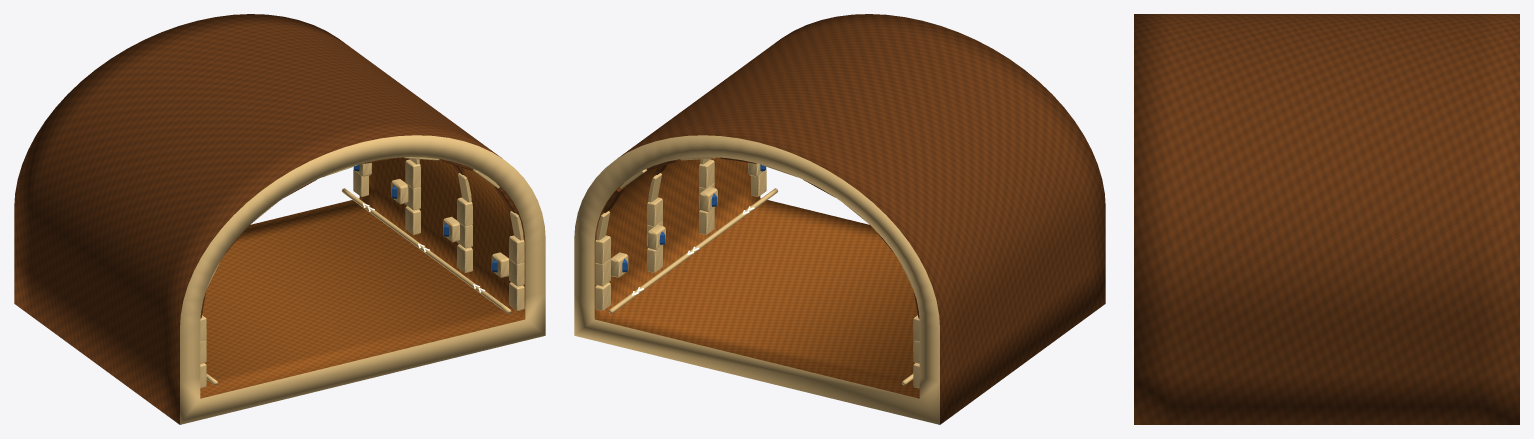
Rendered from straight_12m_lod1.glb.
3 renders of one model, left to right at view 1: azimuth 30°, elevation 25°; view 2: azimuth 150°, elevation 25°; view 3: azimuth 270°, elevation 25°, orthographic. The views are drawn at different scales.
Visible parts, largest first — view 1: TunnelGeometry.001; view 2: TunnelGeometry.001; view 3: TunnelGeometry.001.
Part boxes in pixels (box(x1,y1,x2,y2)): TunnelGeometry.001: box(14, 14, 545, 424); TunnelGeometry.001: box(574, 14, 1105, 424); TunnelGeometry.001: box(1134, 14, 1519, 424).
Size of the model in its own units: 15.3 by 9.52 by 12.
Materials: 5 (2 with a texture image).
